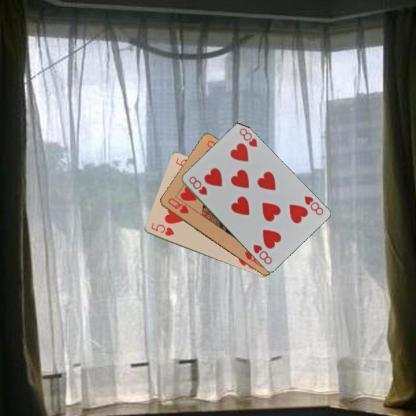5h: (148, 220, 175, 237)
8h: (301, 194, 325, 216), (186, 173, 208, 196)
Qh: (166, 195, 190, 215)
